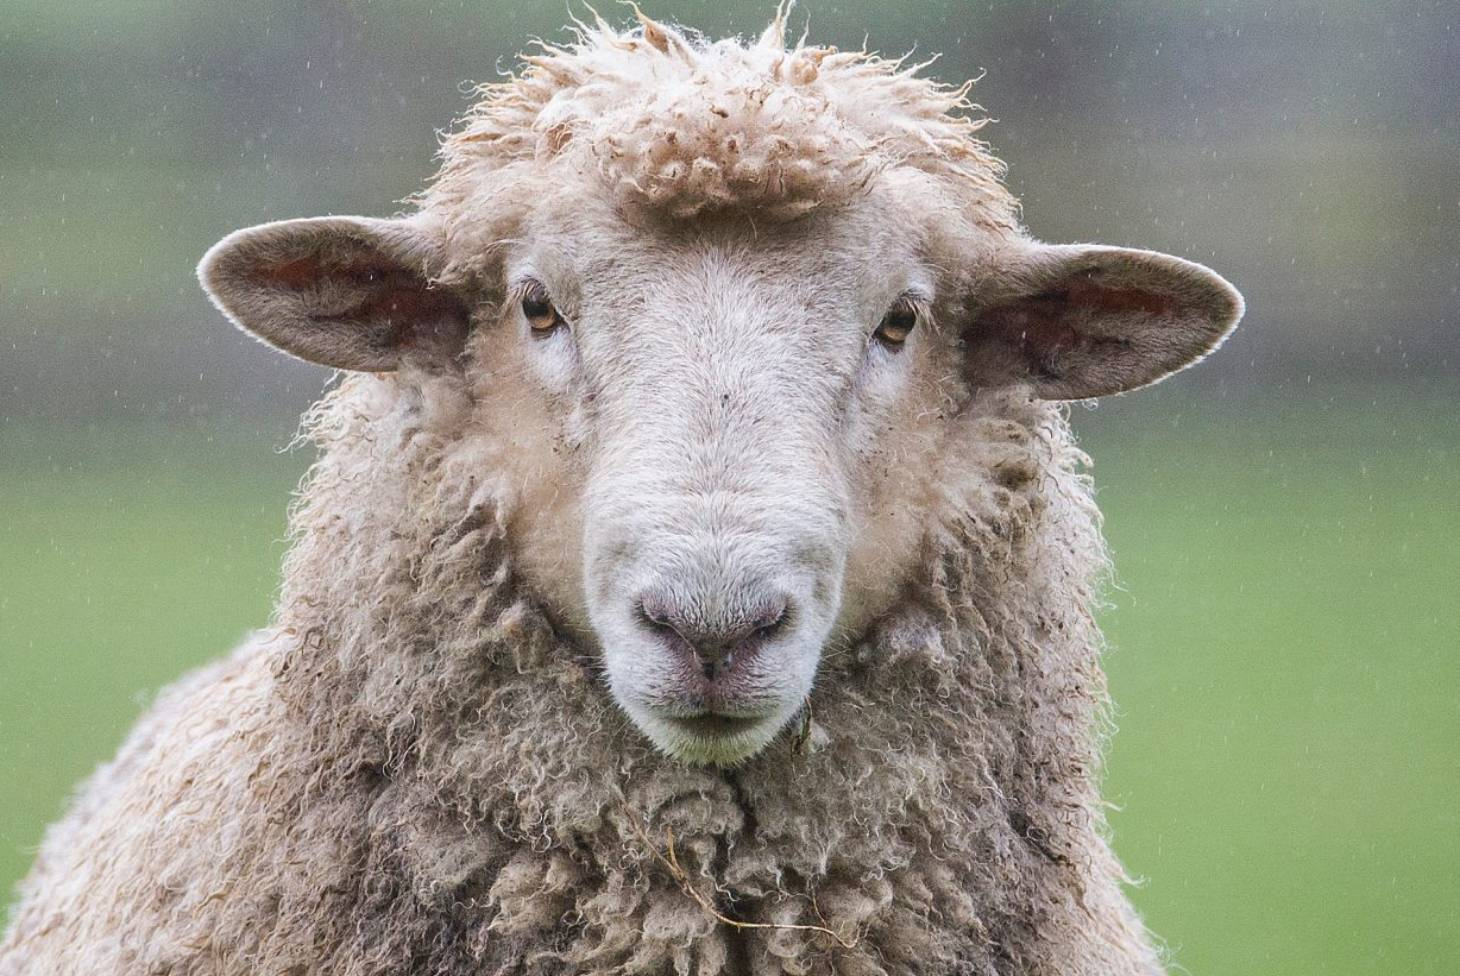koyun: (179, 38, 1246, 938)
